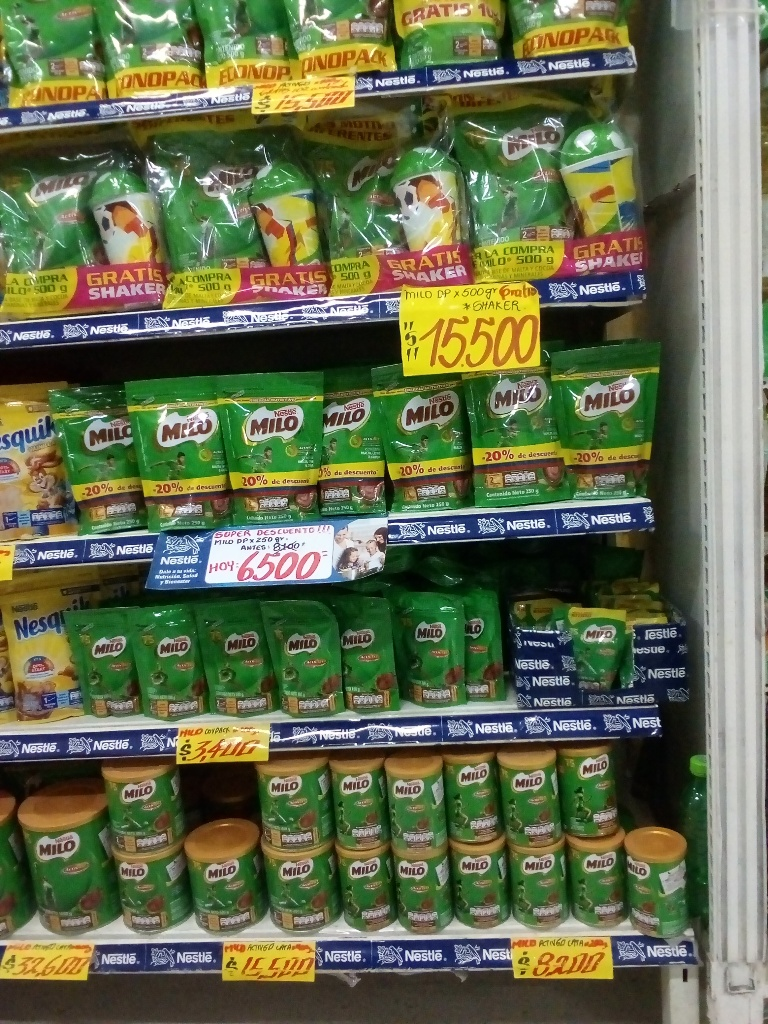COL0170203DYP10000: (68, 609, 136, 717)
COL0170203LAT20000: (330, 754, 381, 846)
COL0170203LAT40000: (98, 766, 179, 856)
COL0170303DYP20000: (0, 573, 102, 728)
COL0170306DYP20000: (4, 388, 58, 539)
